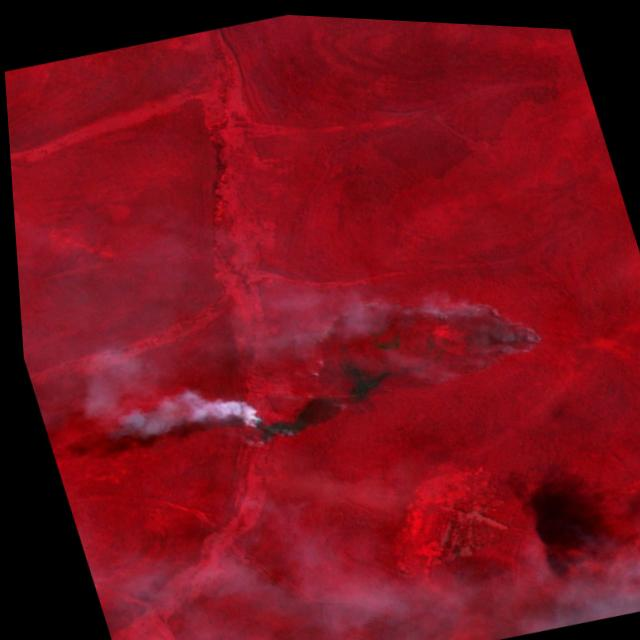fire: (392, 269, 560, 396), (222, 389, 315, 456)
